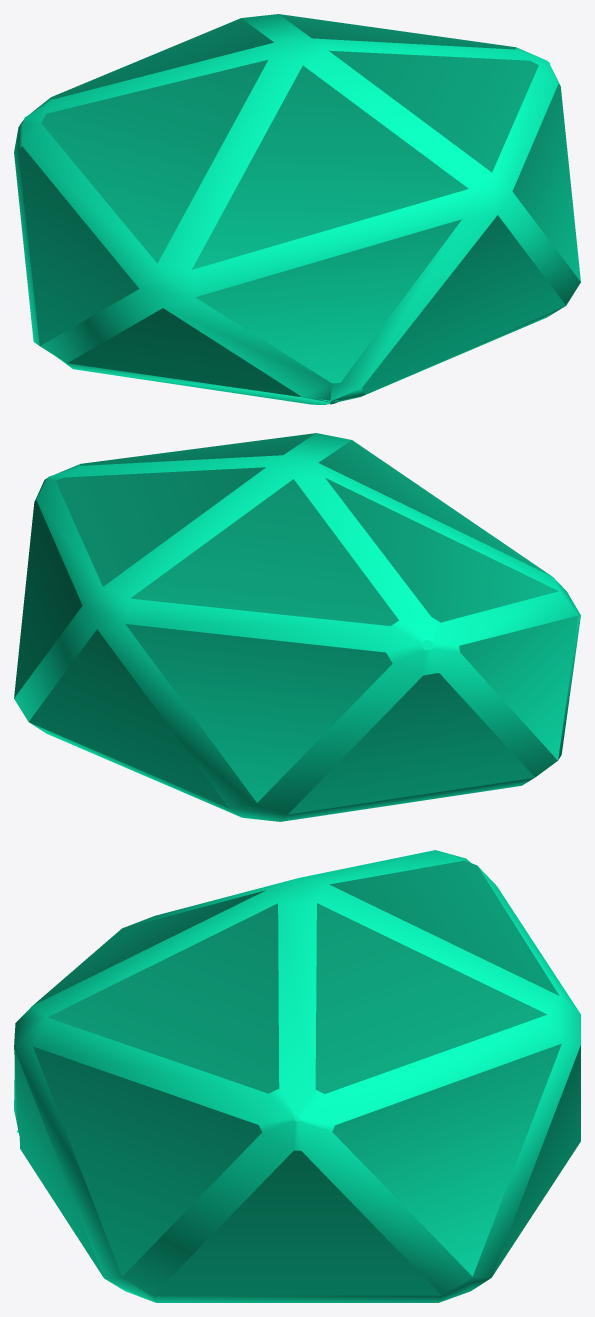
File: Cristal_v1.fbx
The picture shows the model from 3 angles, top to bottom: view 1: azimuth 30°, elevation 25°; view 2: azimuth 150°, elevation 25°; view 3: azimuth 270°, elevation 25°; orthographic projection. The views are drawn at different scales.
Parts seen in each view (by area): view 1: Cristal_v1; view 2: Cristal_v1; view 3: Cristal_v1.
Part boxes in pixels (x1=…): Cristal_v1: x1=14, y1=14, x2=580, y2=404; Cristal_v1: x1=14, y1=433, x2=580, y2=821; Cristal_v1: x1=14, y1=850, x2=580, y2=1302.
Size of the model in its own units: 1.57 by 1.28 by 0.8626.
